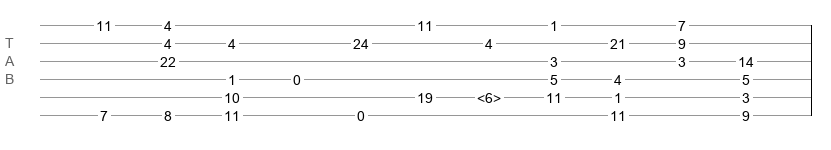0: (293, 72, 301, 82), (357, 108, 365, 118)
1: (228, 72, 236, 82), (550, 18, 558, 28), (614, 90, 622, 100)
10: (224, 90, 240, 100)
11: (96, 18, 112, 28), (224, 108, 240, 118), (417, 18, 433, 28), (546, 90, 562, 100), (610, 108, 626, 118)
14: (738, 54, 754, 64)
19: (417, 90, 433, 100)
21: (610, 36, 626, 46)
22: (160, 54, 176, 64)
24: (353, 36, 369, 46)
3: (550, 54, 558, 64), (678, 54, 686, 64), (742, 90, 750, 100)
4: (164, 18, 172, 28), (164, 36, 172, 46), (228, 36, 236, 46), (485, 36, 493, 46), (614, 72, 622, 82)
5: (550, 72, 558, 82), (742, 72, 750, 82)
7: (100, 108, 108, 118), (678, 18, 686, 28)
8: (164, 108, 172, 118)
9: (678, 36, 686, 46), (742, 108, 750, 118)
harmonic: (477, 90, 501, 100)
